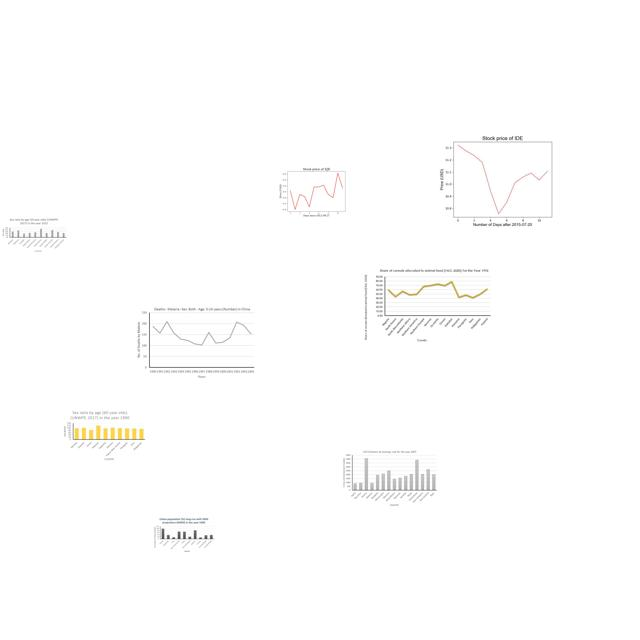Graph: (436, 130, 566, 228), (363, 268, 494, 344), (134, 306, 257, 379), (342, 450, 438, 507), (62, 408, 146, 462), (278, 165, 353, 217), (0, 217, 68, 254), (153, 517, 215, 553)
